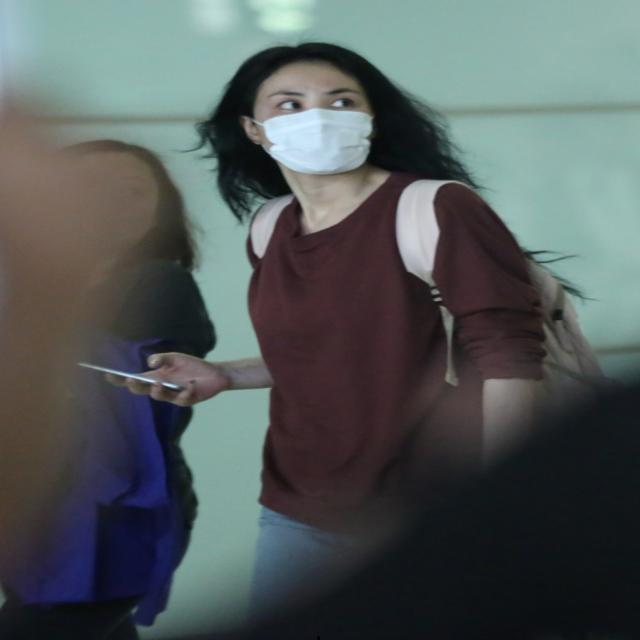mask: (260, 65, 372, 172)
